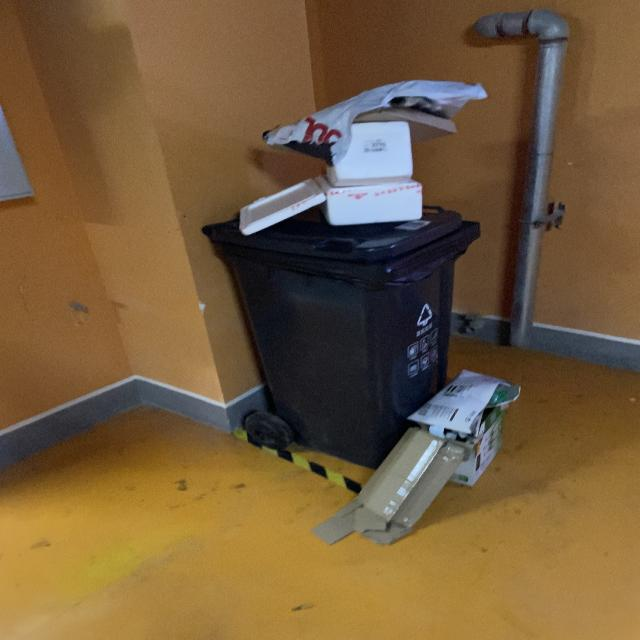garbage: (311, 367, 522, 545)
overflow: (199, 79, 487, 468)
